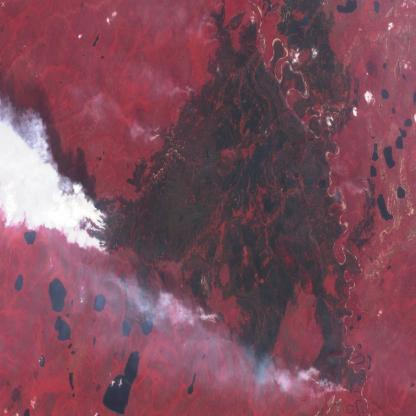fire: (78, 185, 116, 266), (306, 364, 368, 401), (203, 0, 229, 53), (201, 304, 230, 333), (148, 118, 167, 150)
